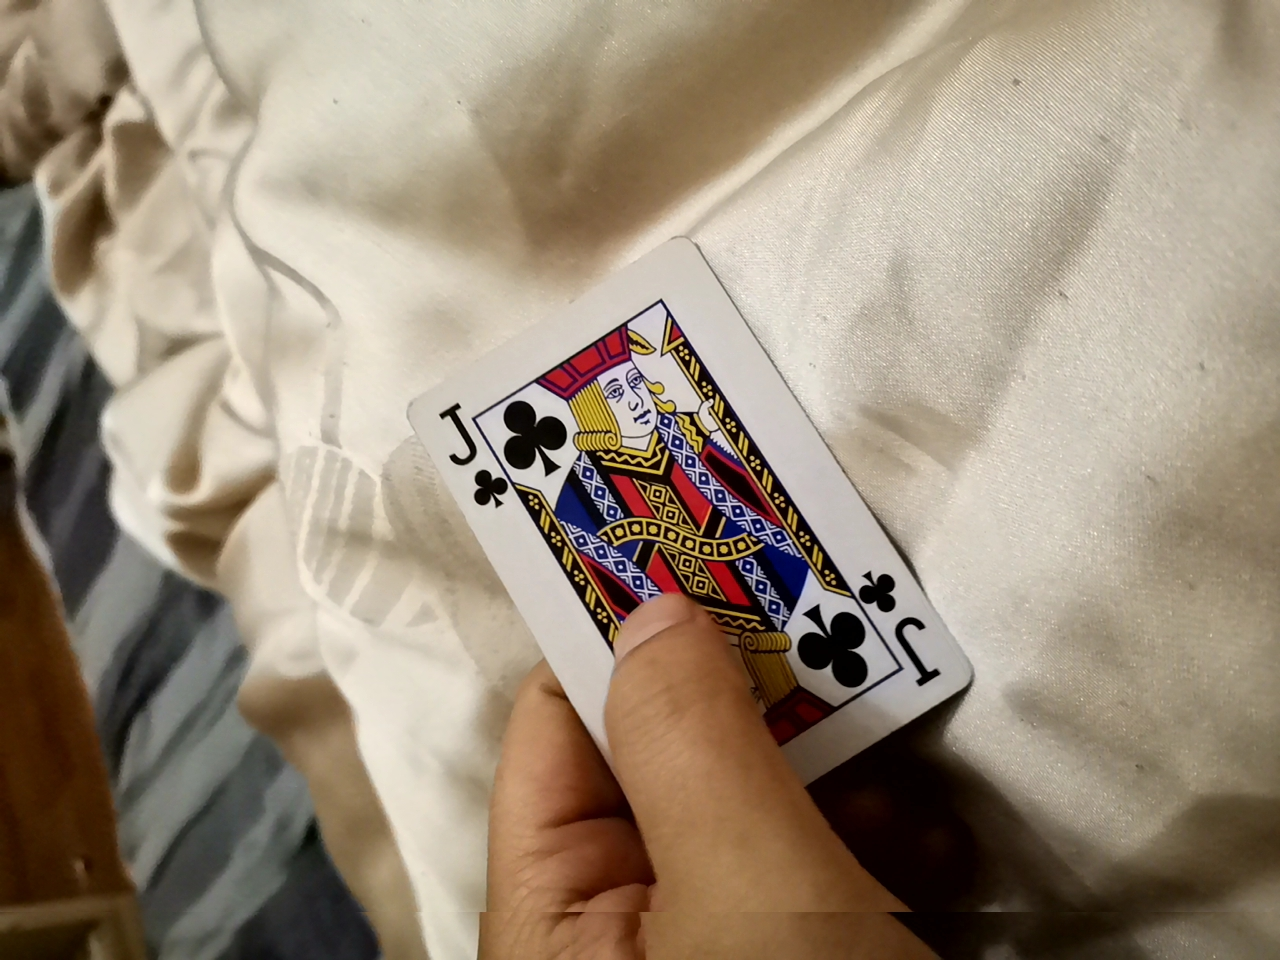mh j: (405, 224, 975, 823)
